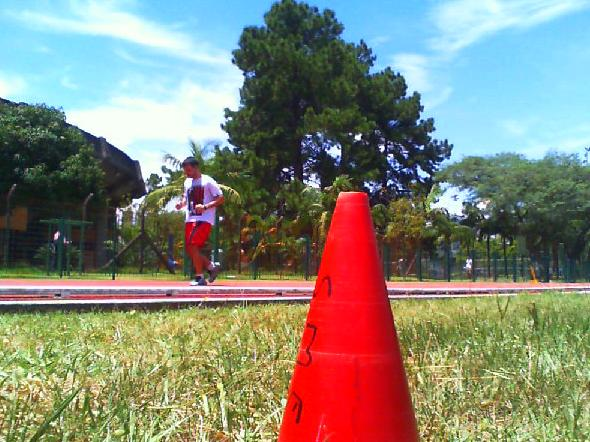0 cone: (258, 191, 422, 442)
